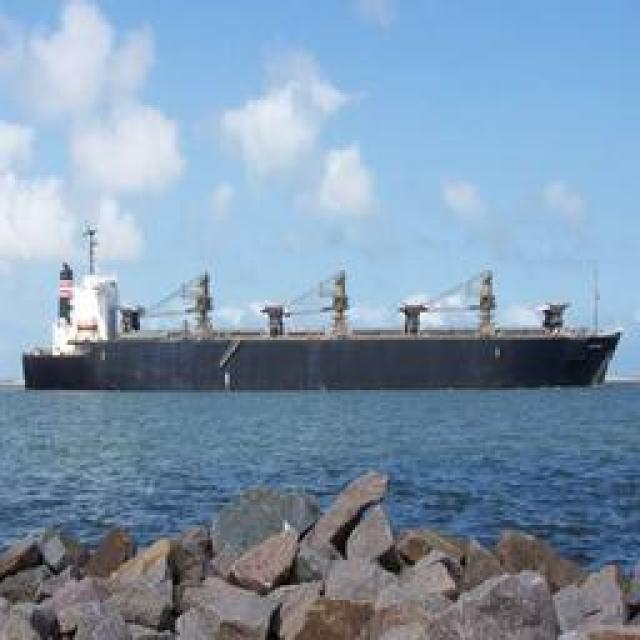CIV_Ship: (30, 258, 625, 396)
